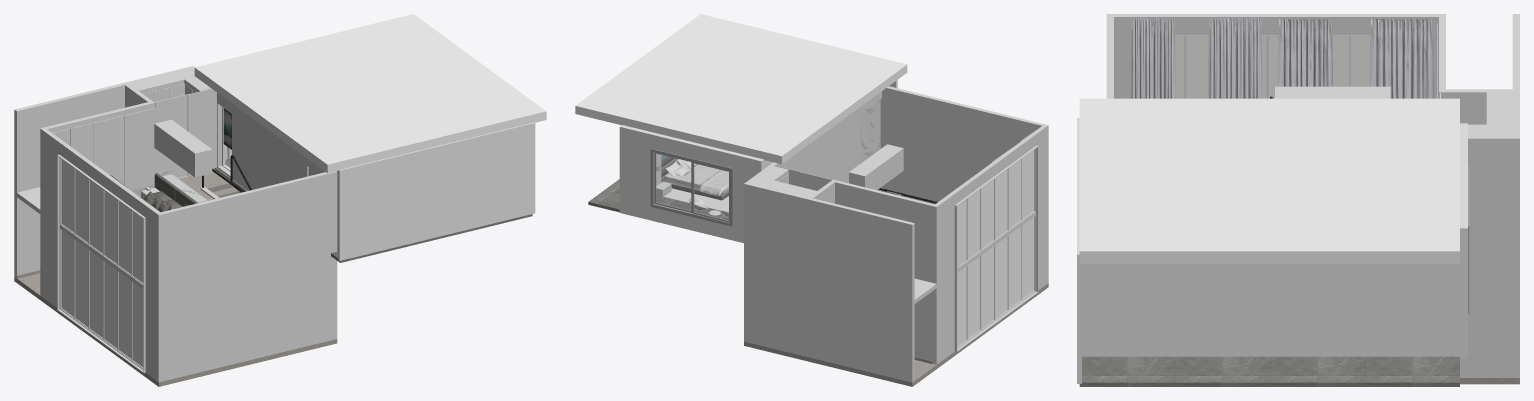
File: house.glb
3 renders of one model, left to right at view 1: azimuth 30°, elevation 25°; view 2: azimuth 150°, elevation 25°; view 3: azimuth 270°, elevation 25°, orthographic. The views are drawn at different scales.
Visible parts, largest first — view 1: Cube.019, Box002, Cube.002, Cube.043, Cube.016, Box001; view 2: Cube.019, Box002, Rectangle002, SlidingWindow001, Cube.043, obj_01, Cube.002, Box001, Arch37_073_obj_021; view 3: Box002, Cube.019, 3DGeom~1_Defintion, Box001, Rectangle002, Cube.043, Cube.002.
Boxes of the visible parts, left/top/right/bottom form: Cube.019: left=14, top=66, right=337, bottom=382; Box002: left=194, top=14, right=546, bottom=260; Cube.002: left=14, top=169, right=337, bottom=386; Cube.043: left=145, top=119, right=317, bottom=202; Cube.016: left=144, top=173, right=197, bottom=212; Box001: left=214, top=158, right=532, bottom=262; Cube.019: left=744, top=86, right=1048, bottom=382; Box002: left=575, top=14, right=907, bottom=212; Rectangle002: left=619, top=125, right=763, bottom=242; SlidingWindow001: left=656, top=154, right=728, bottom=219; Cube.043: left=849, top=99, right=903, bottom=195; obj_01: left=665, top=159, right=728, bottom=218; Cube.002: left=744, top=283, right=1048, bottom=386; Box001: left=588, top=179, right=728, bottom=220; Arch37_073_obj_021: left=661, top=155, right=728, bottom=200; Box002: left=1077, top=98, right=1459, bottom=383; Cube.019: left=1106, top=14, right=1519, bottom=377; 3DGeom~1_Defintion: left=1130, top=18, right=1433, bottom=98; Box001: left=1079, top=356, right=1459, bottom=386; Rectangle002: left=1460, top=123, right=1469, bottom=358; Cube.043: left=1275, top=86, right=1391, bottom=98; Cube.002: left=1460, top=378, right=1519, bottom=384.
Bounding box in the file's own units: 13.21 × 6.32 × 9.31.
Materials: 34 (33 with a texture image).
